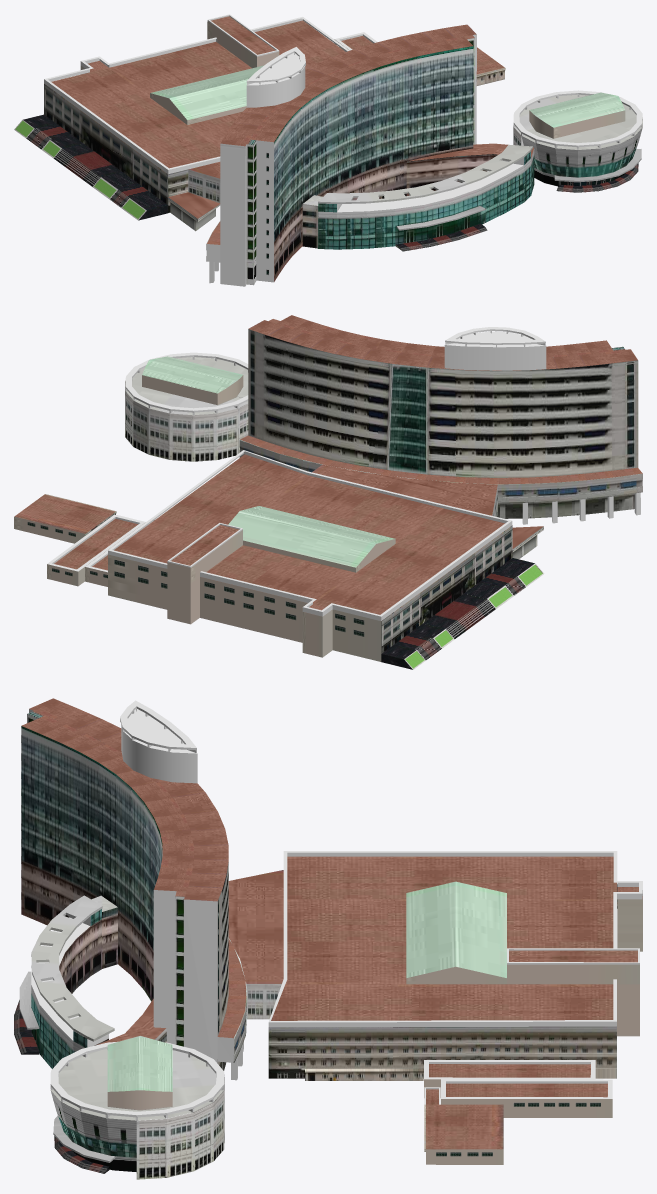
The picture shows the model from 3 angles, top to bottom: view 1: azimuth 30°, elevation 25°; view 2: azimuth 150°, elevation 25°; view 3: azimuth 270°, elevation 25°; orthographic projection. The views are drawn at different scales.
Parts seen in each view (by area): view 1: 5b7bbdc037e3d03be8174420.001; view 2: 5b7bbdc037e3d03be8174420.001; view 3: 5b7bbdc037e3d03be8174420.001.
Part boxes in pixels (x1,y1,x2,y2): 5b7bbdc037e3d03be8174420.001: (14, 14, 642, 286); 5b7bbdc037e3d03be8174420.001: (14, 315, 642, 669); 5b7bbdc037e3d03be8174420.001: (14, 698, 642, 1179).
Bounding box in the file's own units: 172 × 60.44 × 153.
1 material, 1 textured.
